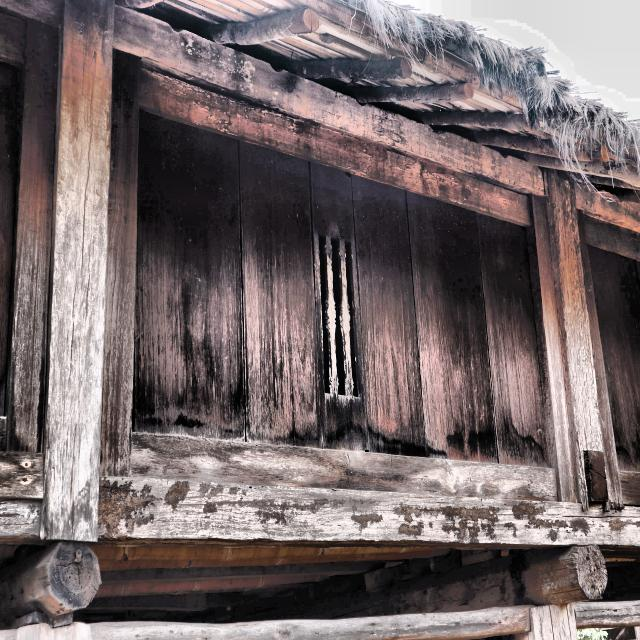roof: (135, 2, 640, 205)
wall: (0, 7, 639, 546)
window: (319, 235, 359, 397)
